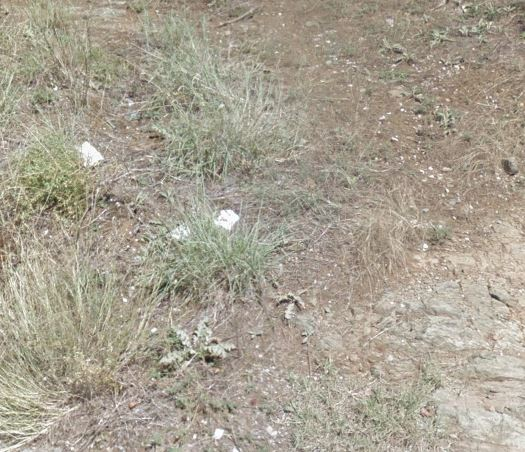trash: (161, 202, 238, 247), (64, 135, 105, 168)
